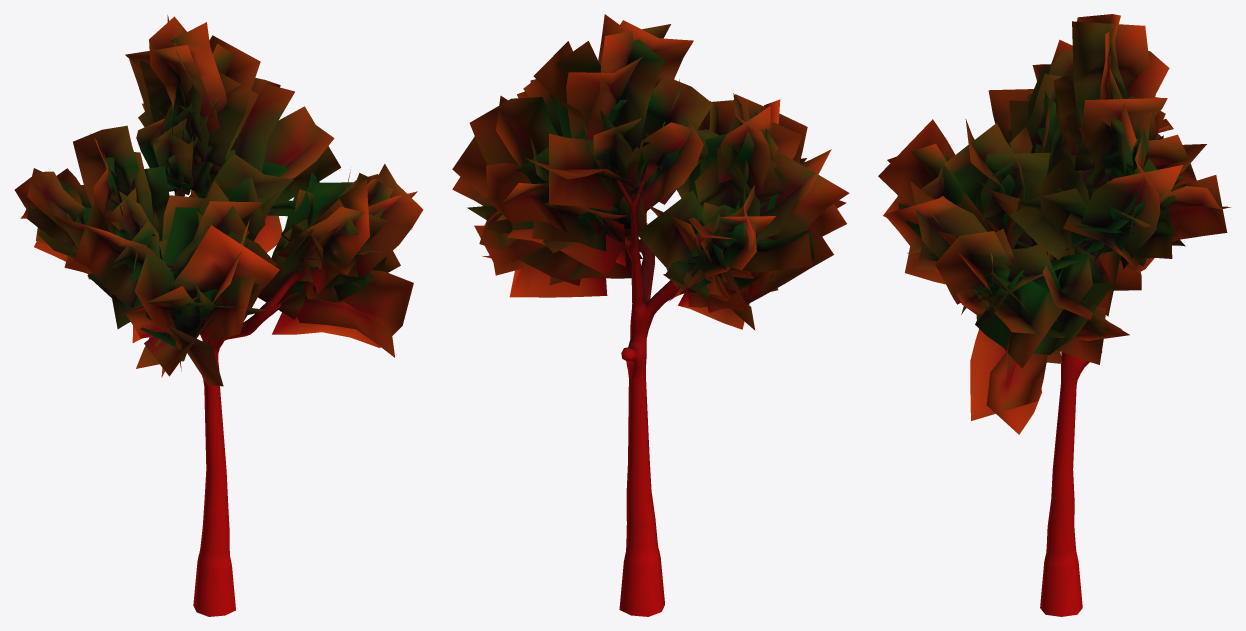
File: GenericTree_E.fbx
The picture shows the model from 3 angles, left to right: view 1: azimuth 30°, elevation 25°; view 2: azimuth 150°, elevation 25°; view 3: azimuth 270°, elevation 25°; orthographic projection. The views are drawn at different scales.
Parts seen in each view (by area): view 1: GTE_Leaves_LOD0, GTE_Bark_LOD0; view 2: GTE_Leaves_LOD0, GTE_Bark_LOD0; view 3: GTE_Leaves_LOD0, GTE_Bark_LOD0.
Part boxes in pixels (bbox=[...]): GTE_Leaves_LOD0: bbox=[14, 15, 423, 386]; GTE_Bark_LOD0: bbox=[119, 106, 302, 616]; GTE_Leaves_LOD0: bbox=[452, 14, 849, 330]; GTE_Bark_LOD0: bbox=[614, 167, 747, 616]; GTE_Leaves_LOD0: bbox=[878, 14, 1230, 434]; GTE_Bark_LOD0: bbox=[1009, 179, 1111, 616].
Size of what is drawn, in the model's own units: 9.48 by 15.2 by 8.31.
